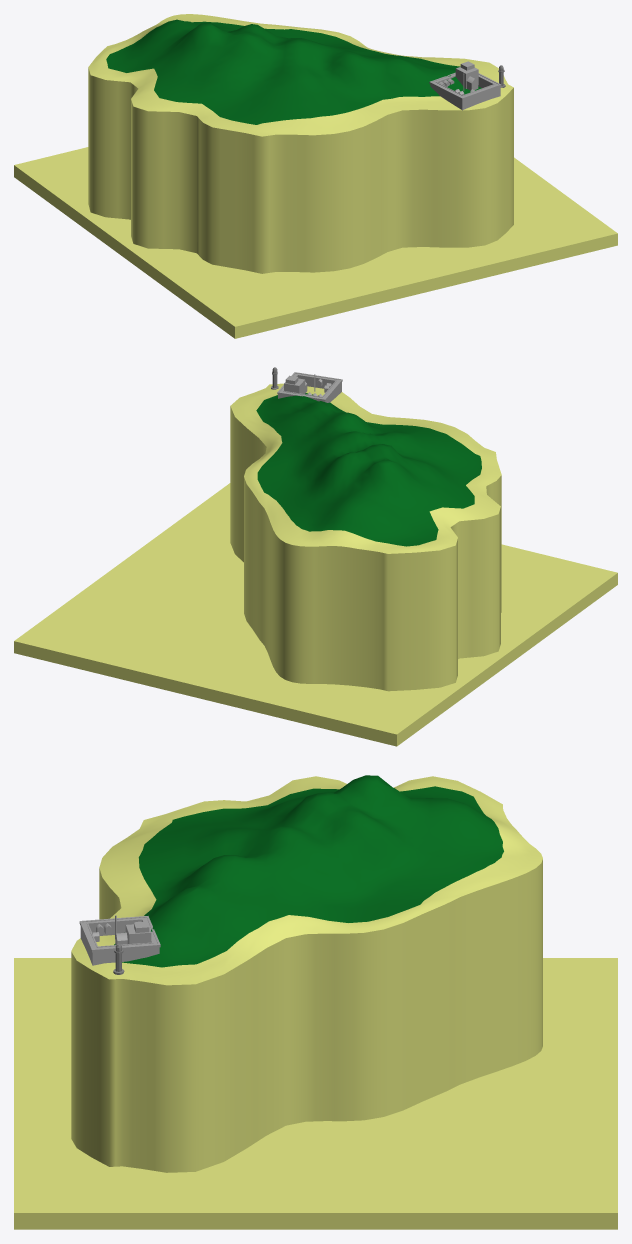
The model's file is Quest_Big_Island_01.fbx.
3 views of the same model, one above another, from view 1: azimuth 30°, elevation 25°; view 2: azimuth 150°, elevation 25°; view 3: azimuth 270°, elevation 25° (orthographic). The views are drawn at different scales.
Parts seen in each view (by area): view 1: Quest_Big_Island_01, Big_Quest_01; view 2: Quest_Big_Island_01, Big_Quest_01; view 3: Quest_Big_Island_01, Big_Quest_01.
Boxes of the visible parts, bbox=[...] form: Quest_Big_Island_01: bbox=[14, 14, 617, 338]; Big_Quest_01: bbox=[429, 61, 505, 110]; Quest_Big_Island_01: bbox=[14, 383, 617, 746]; Big_Quest_01: bbox=[271, 367, 342, 402]; Quest_Big_Island_01: bbox=[14, 775, 617, 1229]; Big_Quest_01: bbox=[79, 915, 160, 974].
Size of the model in its own units: 136 by 65.8 by 136.
